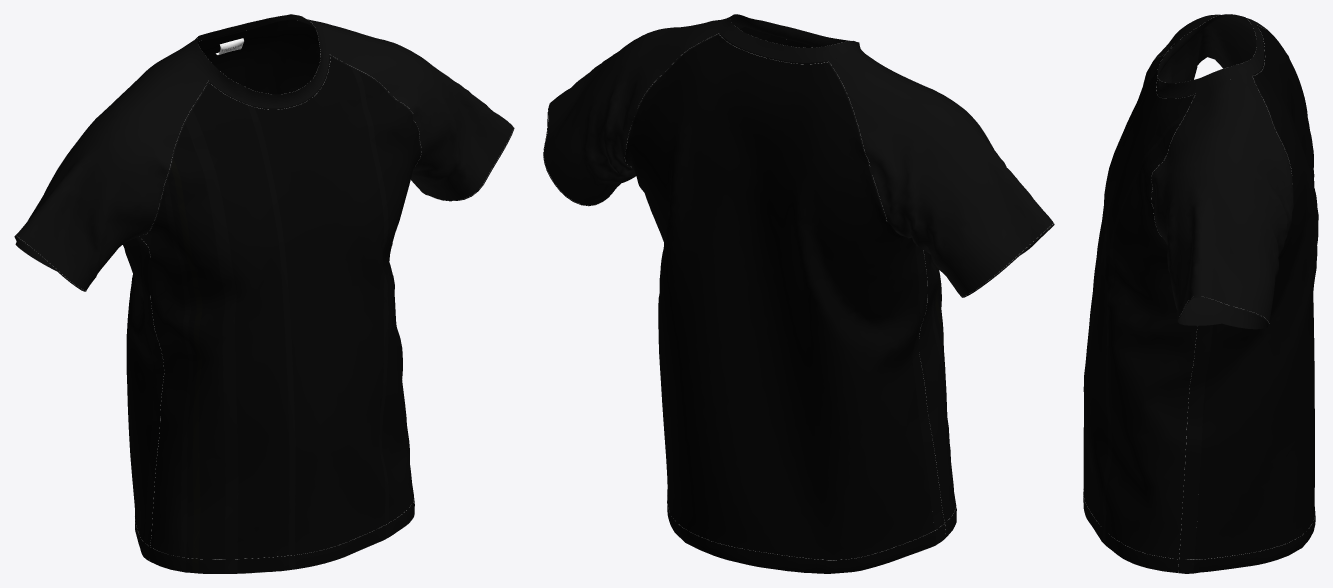
File: tshirt2.glb
3 views of the same model, side by side, from view 1: azimuth 30°, elevation 25°; view 2: azimuth 150°, elevation 25°; view 3: azimuth 270°, elevation 25° (orthographic). The views are drawn at different scales.
Parts seen in each view (by area): view 1: Object_115, Object_125, Object_123, Object_113, Object_121; view 2: Object_113, Object_125, Object_123, Object_115, Object_121; view 3: Object_115, Object_113, Object_123, Object_125, Object_121.
Part boxes in pixels (x1,y1,x2,y2): Object_115: (136, 55, 420, 573); Object_125: (14, 46, 209, 291); Object_123: (295, 19, 514, 201); Object_113: (123, 19, 320, 556); Object_121: (184, 14, 329, 108); Object_113: (625, 34, 936, 573); Object_125: (827, 52, 1054, 297); Object_123: (543, 19, 744, 206); Object_115: (739, 27, 956, 544); Object_121: (717, 14, 863, 62); Object_115: (1083, 43, 1212, 573); Object_113: (1193, 25, 1318, 573); Object_123: (1150, 75, 1293, 329); Object_125: (1153, 14, 1268, 83); Object_121: (1157, 14, 1263, 97).
Size of the model in its own units: 0.6858 by 0.6502 by 0.2894.
7 materials, 4 textured.
